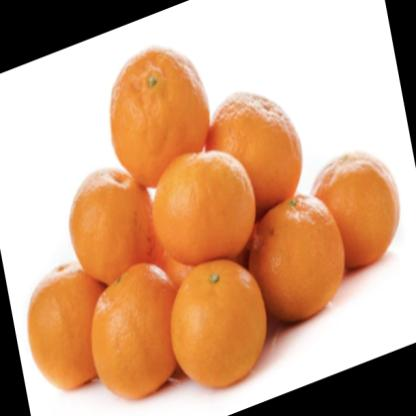fresh: (114, 51, 210, 186), (258, 195, 344, 331), (178, 259, 268, 387), (214, 94, 303, 213), (162, 151, 254, 260), (98, 274, 178, 398), (315, 153, 399, 269), (31, 269, 105, 393), (71, 170, 155, 275)
